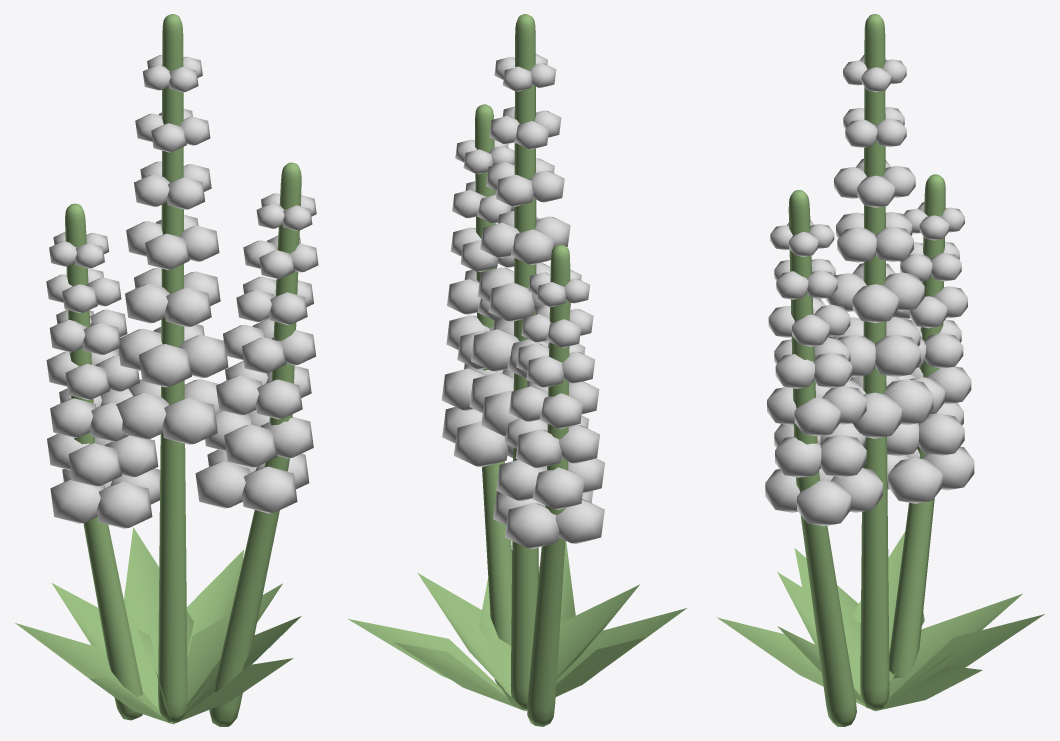
The model's file is plant.lupine.glb.
3 renders of one model, left to right at view 1: azimuth 30°, elevation 25°; view 2: azimuth 150°, elevation 25°; view 3: azimuth 270°, elevation 25°, orthographic.
Parts seen in each view (by area): view 1: Petal, Stem; view 2: Petal, Stem; view 3: Petal, Stem.
Boxes of the visible parts, bbox=[...] form: Petal: bbox=[46, 55, 318, 528]; Stem: bbox=[15, 14, 301, 726]; Petal: bbox=[441, 54, 604, 548]; Stem: bbox=[348, 14, 686, 726]; Petal: bbox=[765, 54, 974, 526]; Stem: bbox=[717, 14, 1044, 726].
Size of the model in its own units: 0.399 by 1.01 by 0.4341.
